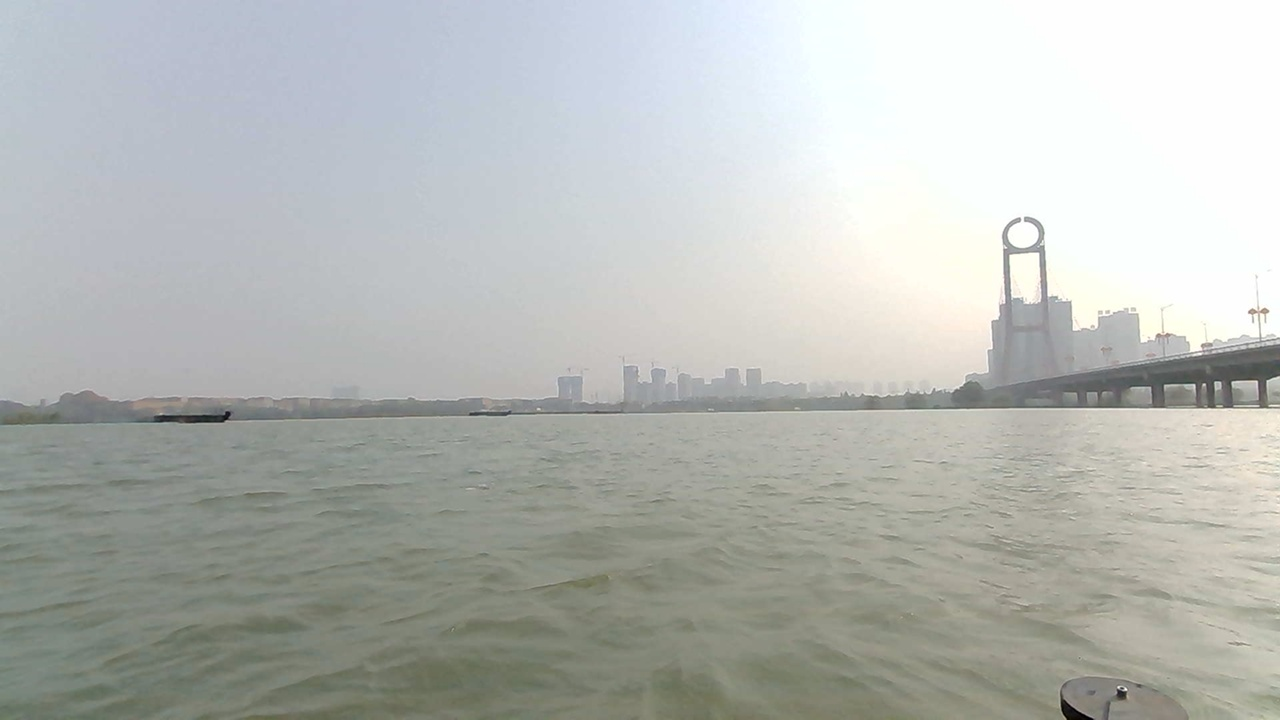bottle: (463, 472, 510, 497)
